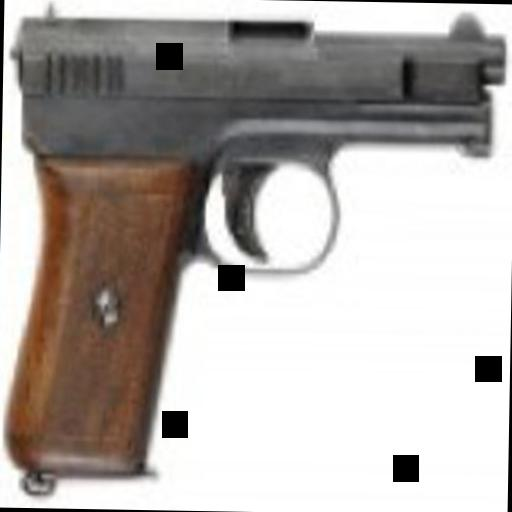Handgun: (8, 3, 500, 472)
